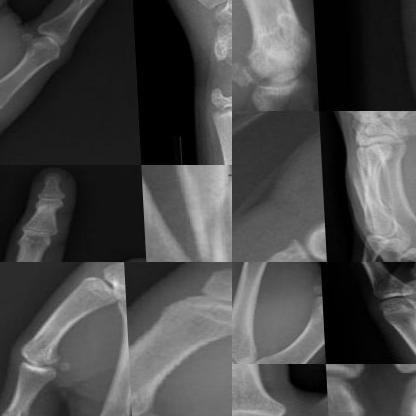fracture: (175, 165, 231, 261), (257, 231, 324, 261), (342, 157, 377, 197)
